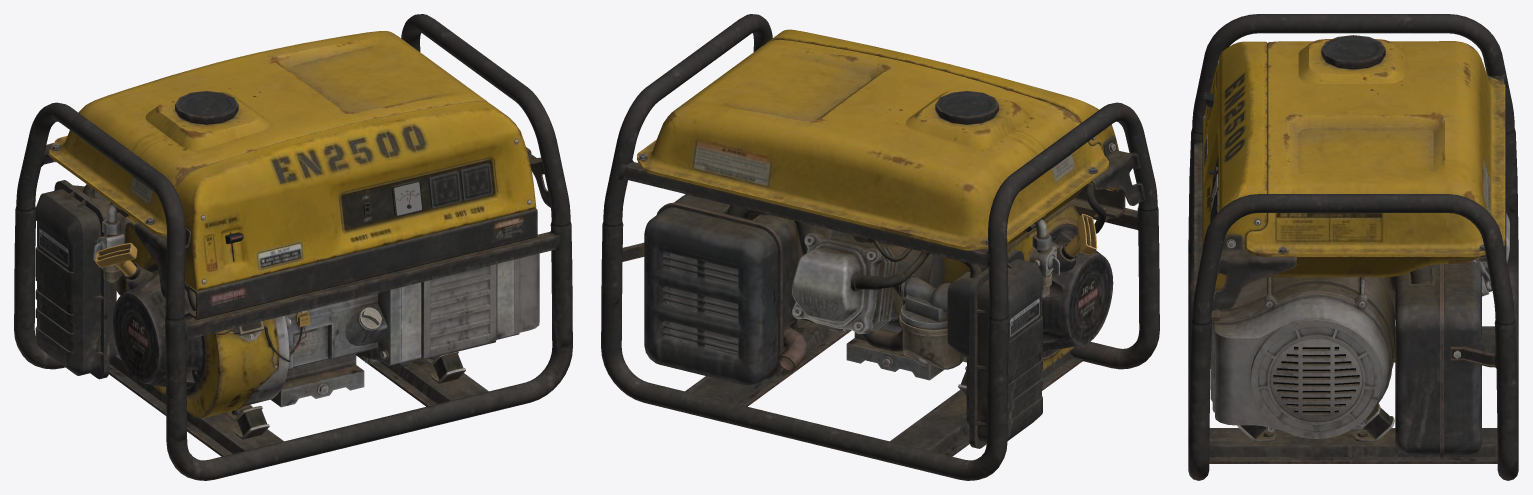
File: portable_generator.gltf
3 views of the same model, side by side, from view 1: azimuth 30°, elevation 25°; view 2: azimuth 150°, elevation 25°; view 3: azimuth 270°, elevation 25° (orthographic).
Visible parts, largest first — view 1: portable_generator; view 2: portable_generator; view 3: portable_generator.
Boxes of the visible parts, bbox=[...] form: portable_generator: bbox=[14, 14, 572, 480]; portable_generator: bbox=[601, 14, 1159, 480]; portable_generator: bbox=[1188, 14, 1518, 480].
Size of the model in its own units: 0.8183 by 0.5769 by 0.564.
Materials: 2 (2 with a texture image).
